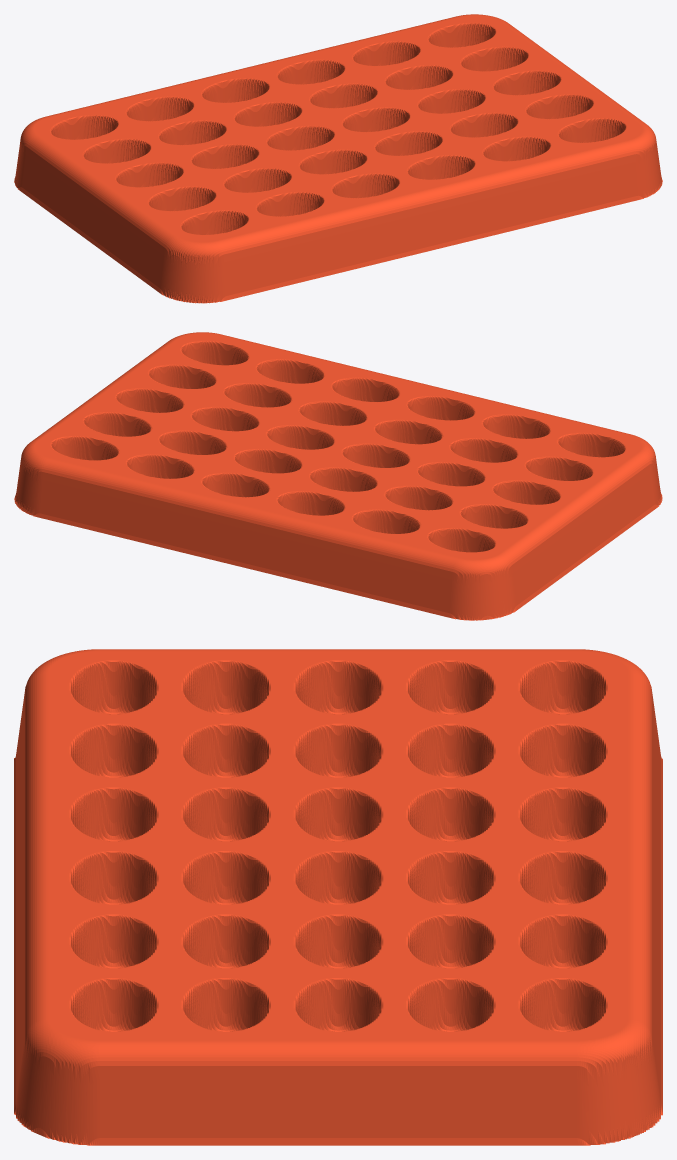
File: mold.glb
The picture shows the model from 3 angles, top to bottom: view 1: azimuth 30°, elevation 25°; view 2: azimuth 150°, elevation 25°; view 3: azimuth 270°, elevation 25°; orthographic projection. The views are drawn at different scales.
Parts seen in each view (by area): view 1: geometry_0; view 2: geometry_0; view 3: geometry_0.
Part boxes in pixels (<box>): geometry_0: <box>14,14,662,303</box>; geometry_0: <box>14,332,662,620</box>; geometry_0: <box>14,649,662,1145</box>.
Size of the model in its own units: 0.104 by 0.0105 by 0.0682.
